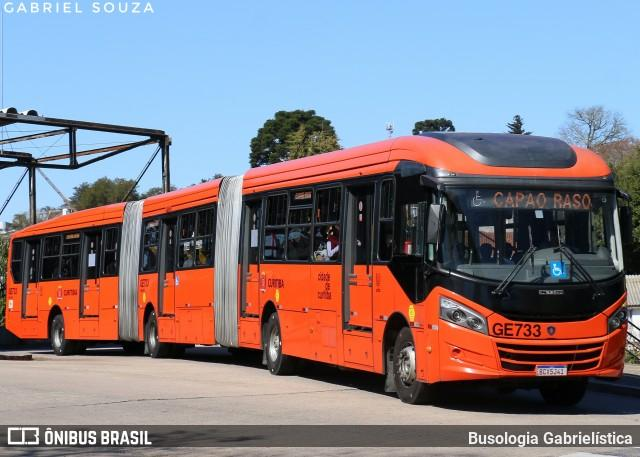CAPAO RASO: (489, 189, 596, 213)
